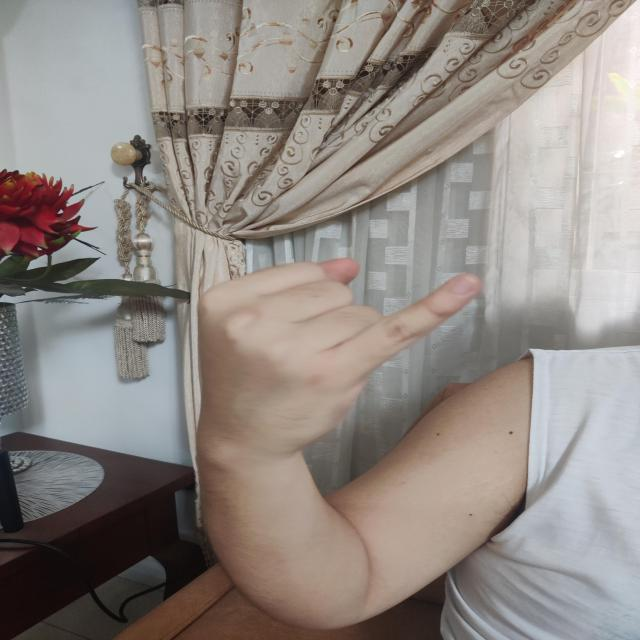J: (195, 257, 484, 450)
